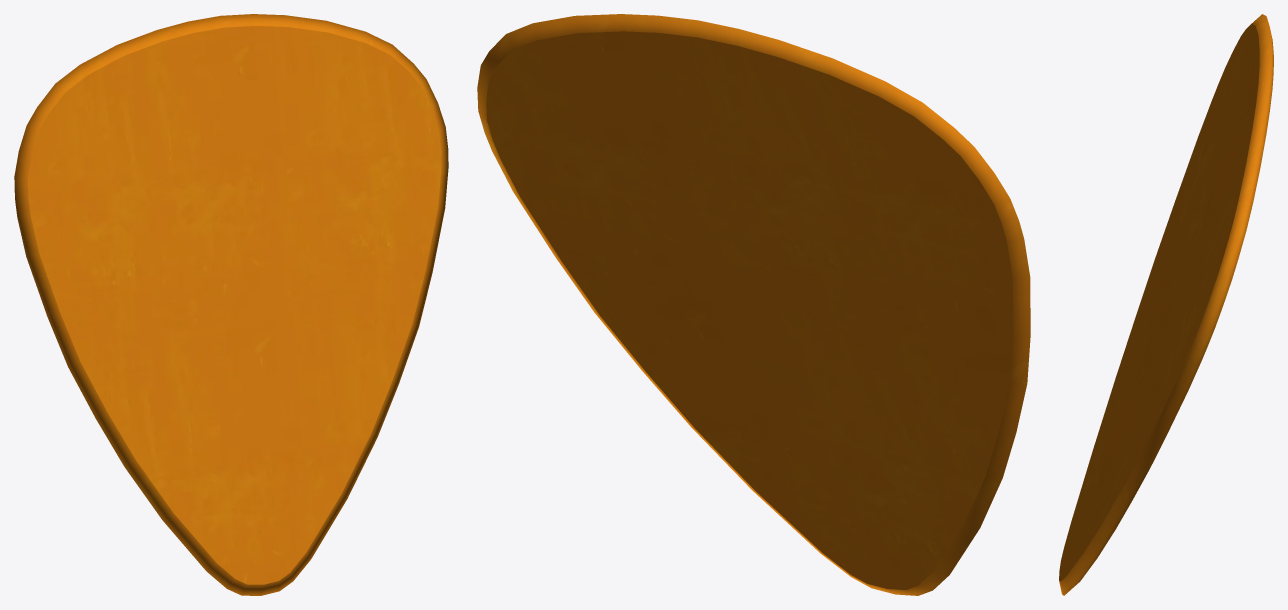
File: rocker.glb
3 views of the same model, side by side, from view 1: azimuth 30°, elevation 25°; view 2: azimuth 150°, elevation 25°; view 3: azimuth 270°, elevation 25° (orthographic). The views are drawn at different scales.
Visible parts, largest first — view 1: Plectrum; view 2: Plectrum; view 3: Plectrum.
Part boxes in pixels (left/top/right/bottom): Plectrum: left=14, top=14, right=448, bottom=595; Plectrum: left=477, top=14, right=1030, bottom=595; Plectrum: left=1059, top=14, right=1273, bottom=595.
Bounding box in the file's own units: 0.8134 × 0.9144 × 0.3304.
1 material, 1 textured.
